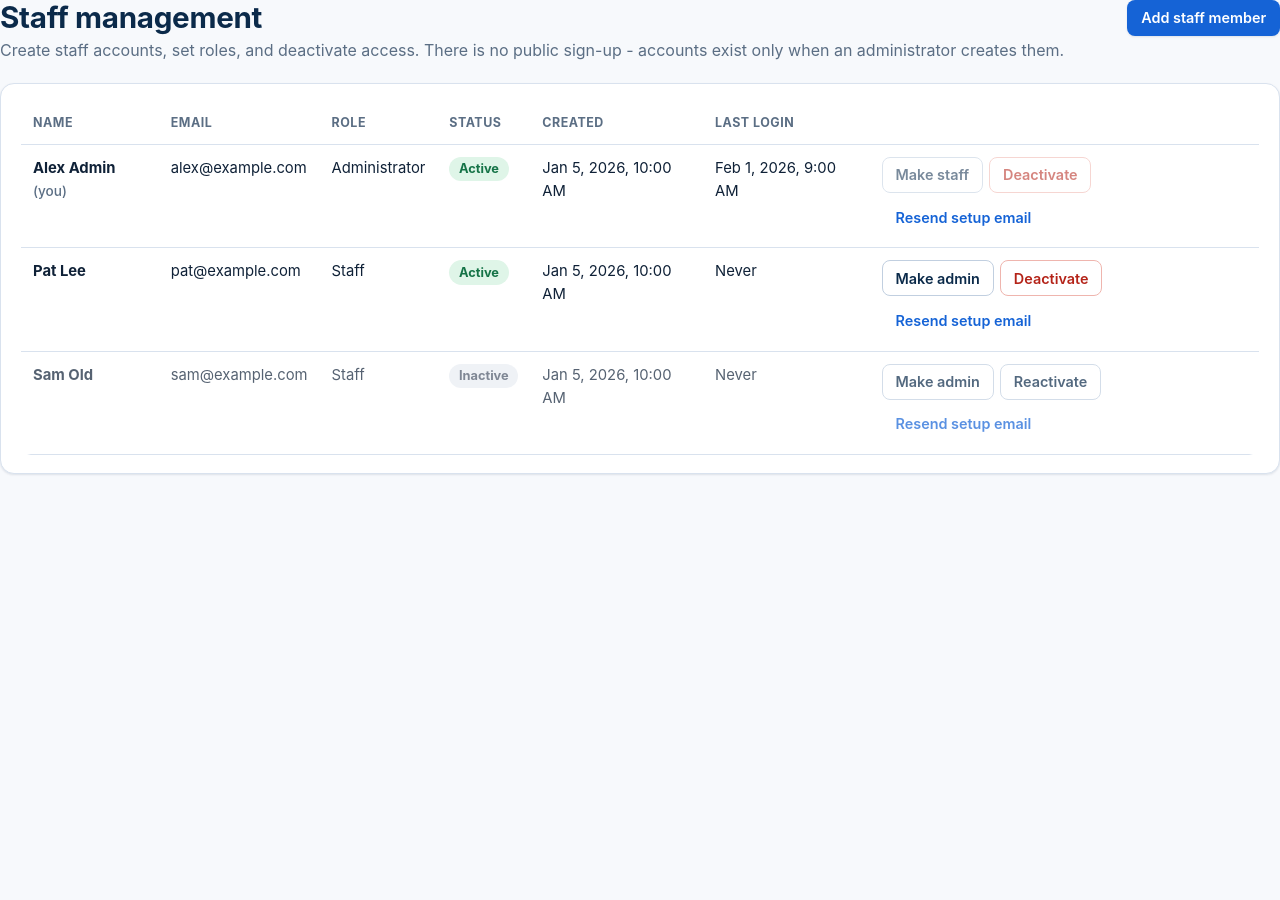
staff management (admin only page) › shows the server message when creation is refused (e.g. duplicate email)
Expected: the text "Pat Lee" is shown, [33,262,86,280]
Click the button "Add staff member".
click(1204, 18)  # box [1127,0,1279,36]
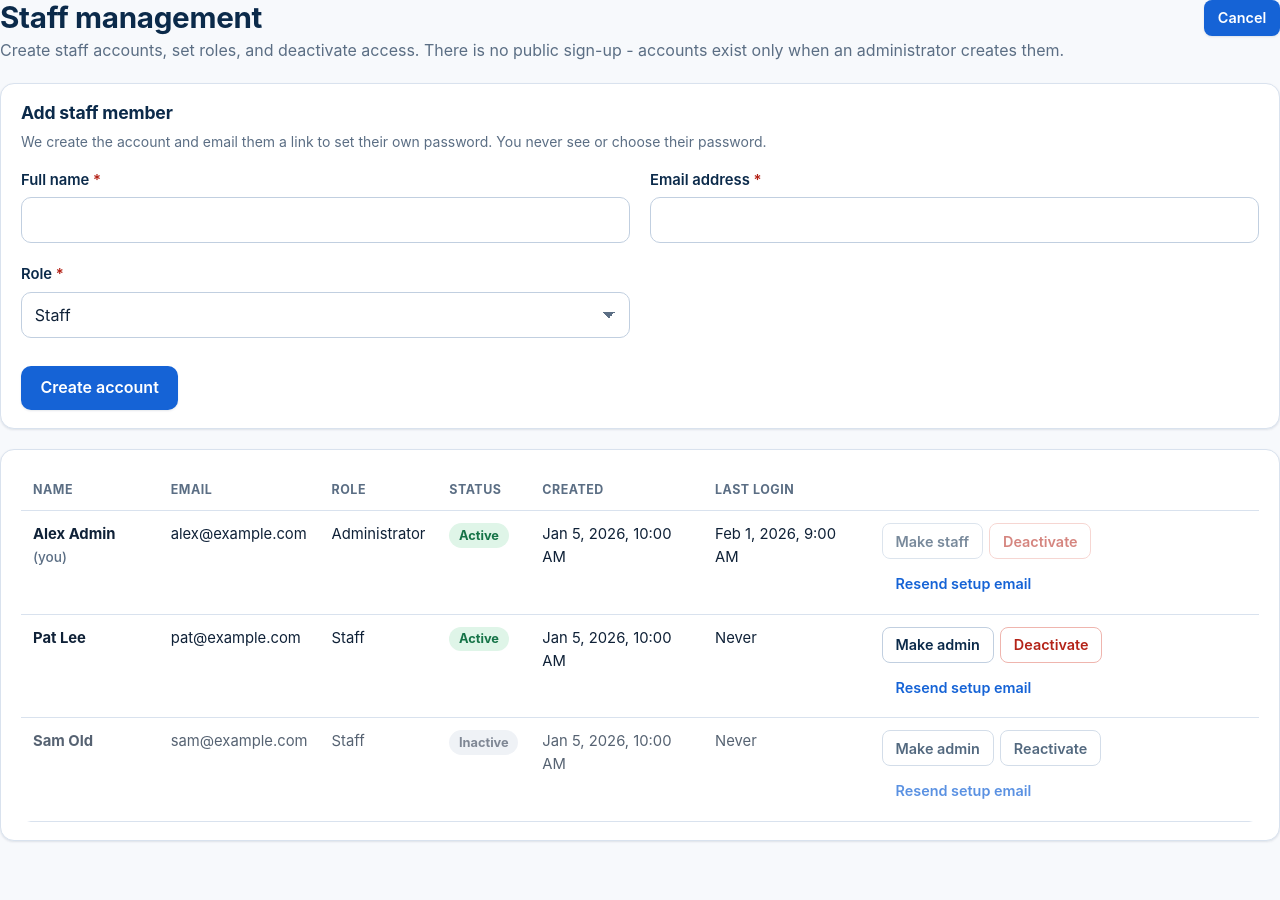
Type "Pat Two" into the field labelled "Full name *".
click(326, 220); type("Pat Two")  # box [21,197,630,243]
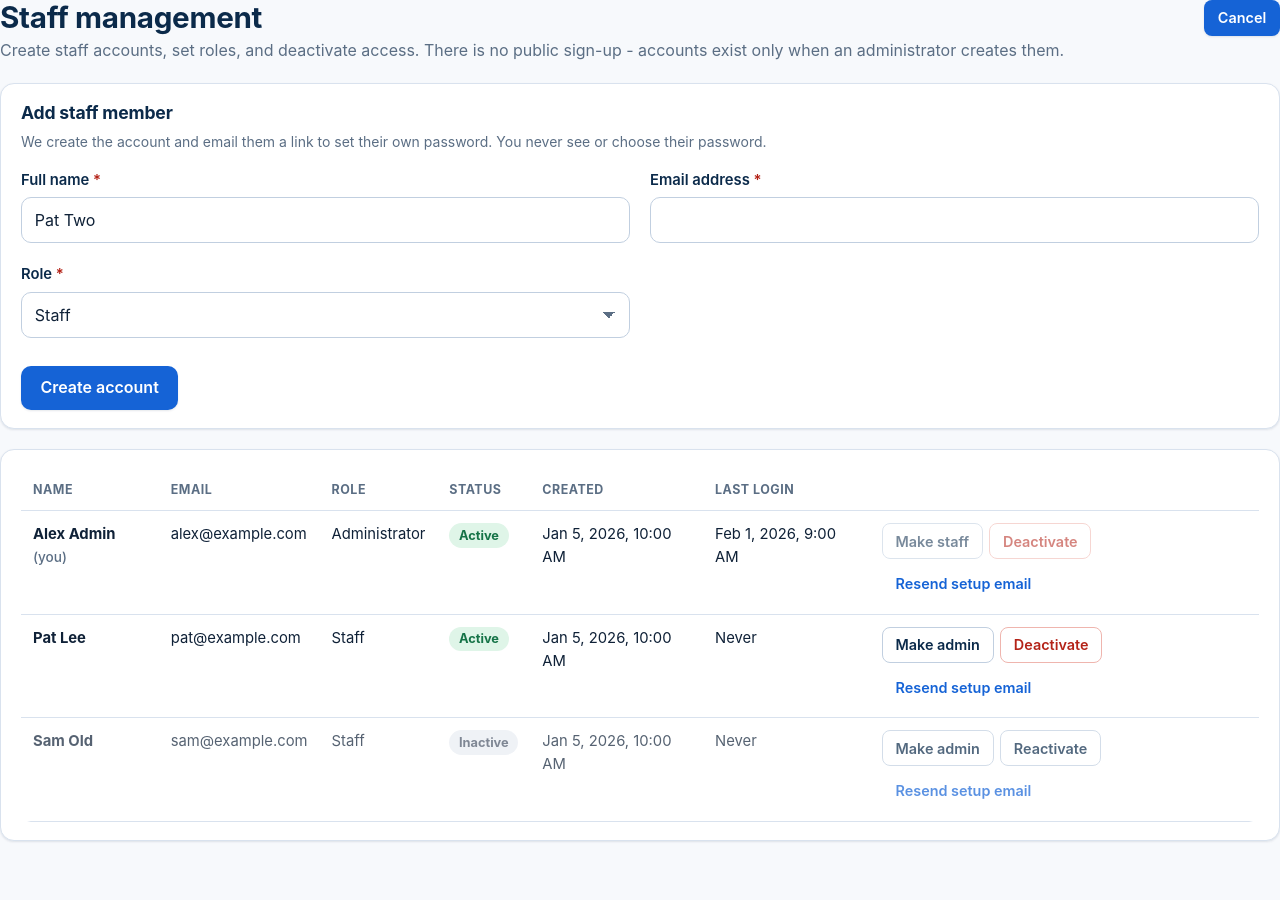
Type "pat@example.com" into the field labelled "Email address *".
click(954, 220); type("pat@example.com")  # box [650,197,1259,243]
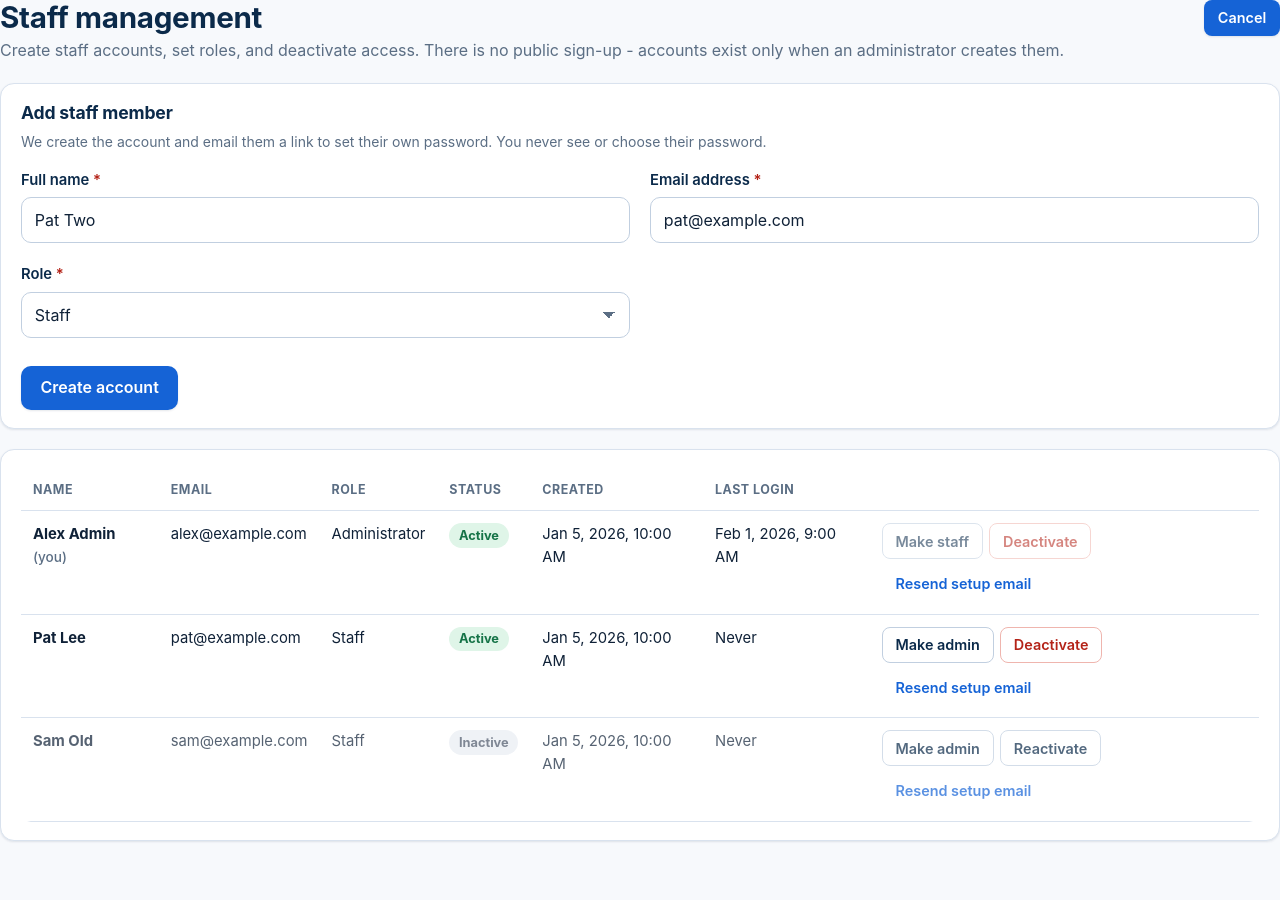
Click the button "Create account".
click(100, 388)  # box [21,366,178,410]
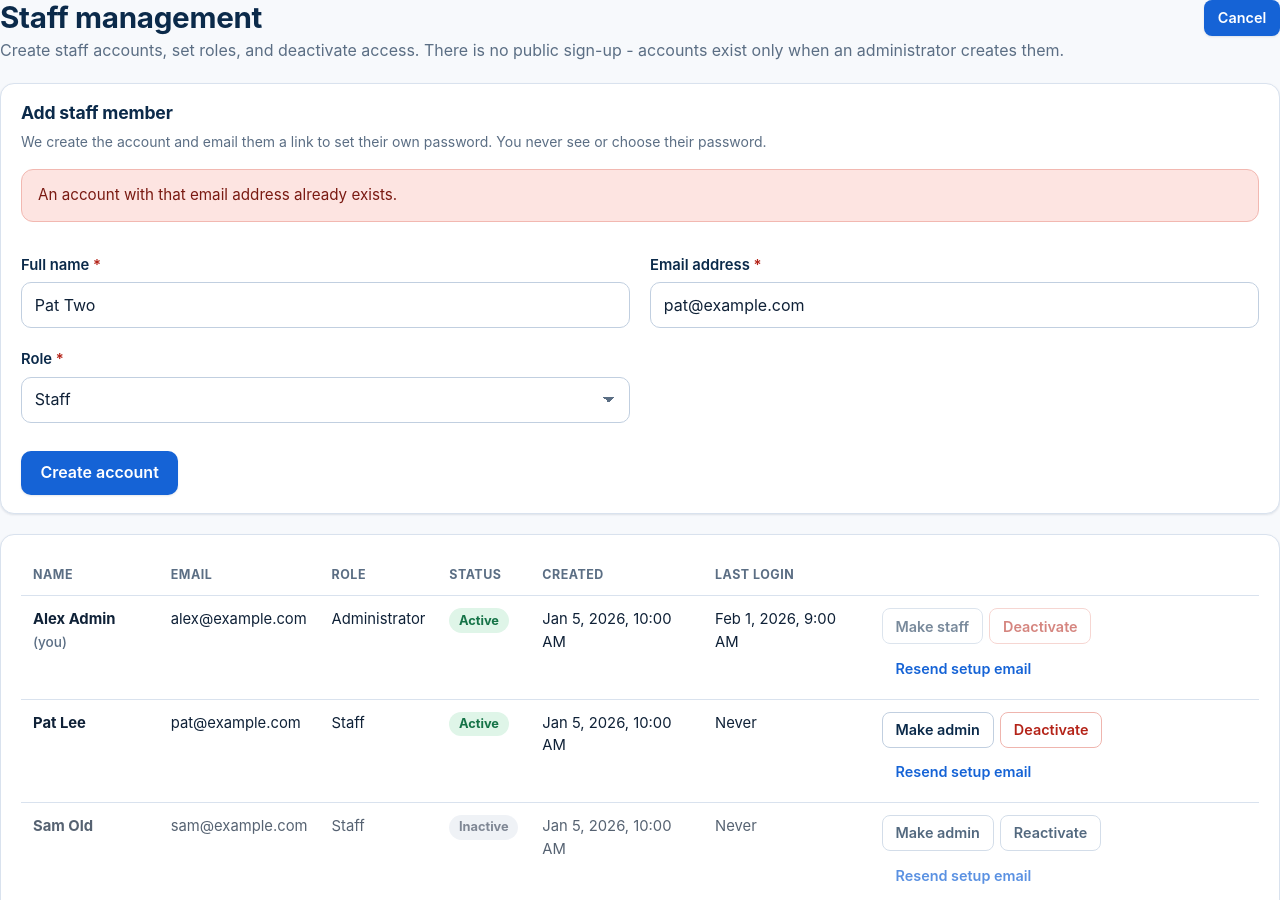
Now the text "An account with that email address already exists." is shown, box [38,184,397,207]
